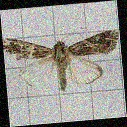Spodoptera litura: (5, 33, 122, 94)
